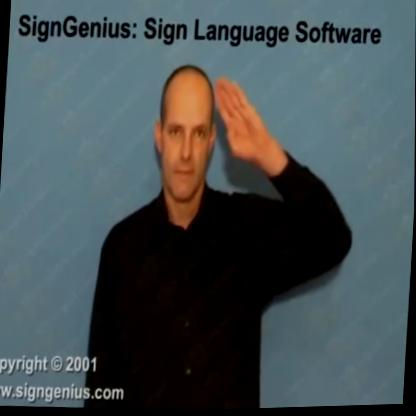Hello: (144, 47, 291, 211)
